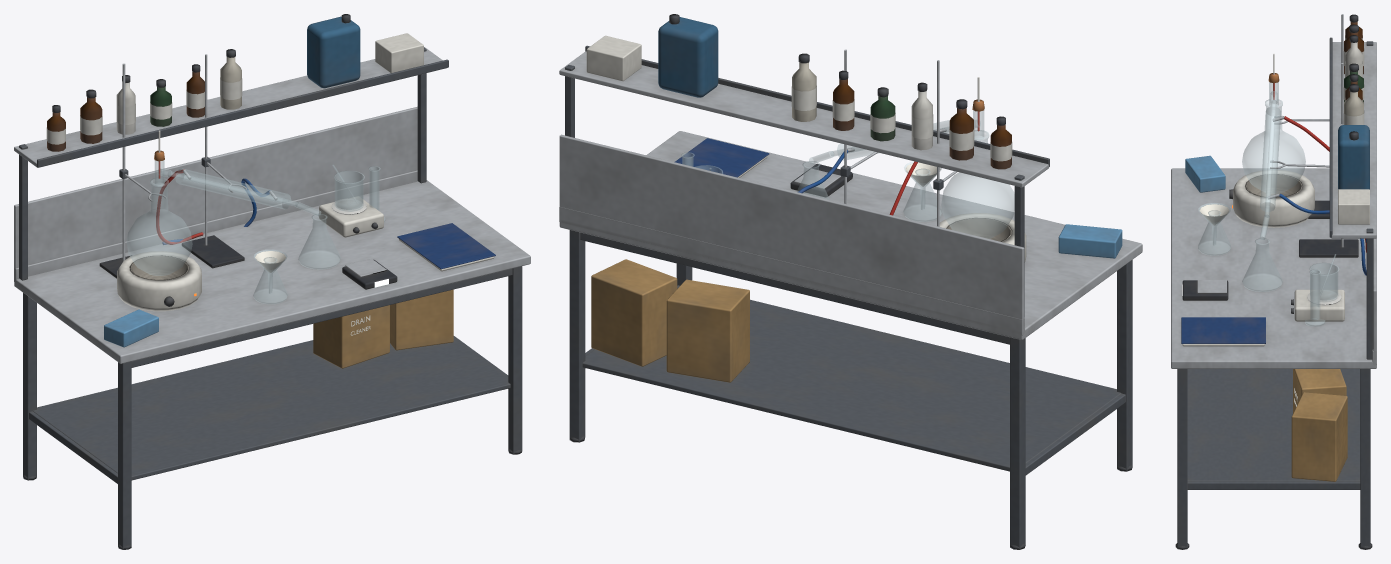
Rendered from kryj_lab.glb.
3 renders of one model, left to right at view 1: azimuth 30°, elevation 25°; view 2: azimuth 150°, elevation 25°; view 3: azimuth 270°, elevation 25°, orthographic. The views are drawn at different scales.
Parts seen in each view (by area): view 1: Stol, Szklo, Drobiazgi; view 2: Stol, Szklo, Drobiazgi; view 3: Stol, Szklo, Drobiazgi.
Boxes of the visible parts, bbox=[...] form: Stol: bbox=[14, 14, 530, 549]; Szklo: bbox=[126, 160, 385, 304]; Drobiazgi: bbox=[154, 130, 388, 296]; Stol: bbox=[559, 14, 1142, 549]; Szklo: bbox=[681, 110, 1014, 238]; Drobiazgi: bbox=[827, 77, 984, 186]; Stol: bbox=[1171, 14, 1376, 549]; Szklo: bbox=[1198, 82, 1338, 326]; Drobiazgi: bbox=[1182, 53, 1279, 295].
Bounding box in the file's own units: 2 × 1.87 × 0.9.
Materials: 9 (1 with a texture image).
